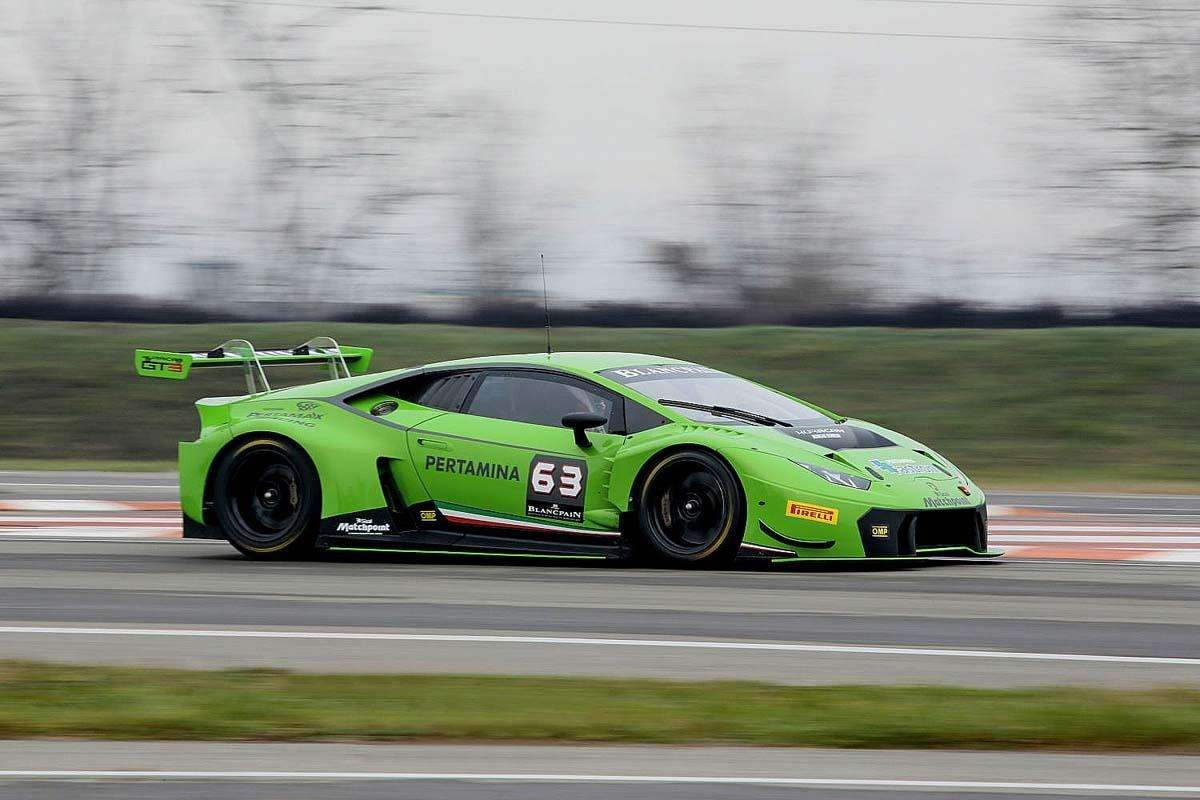racing car: (132, 265, 1010, 608)
